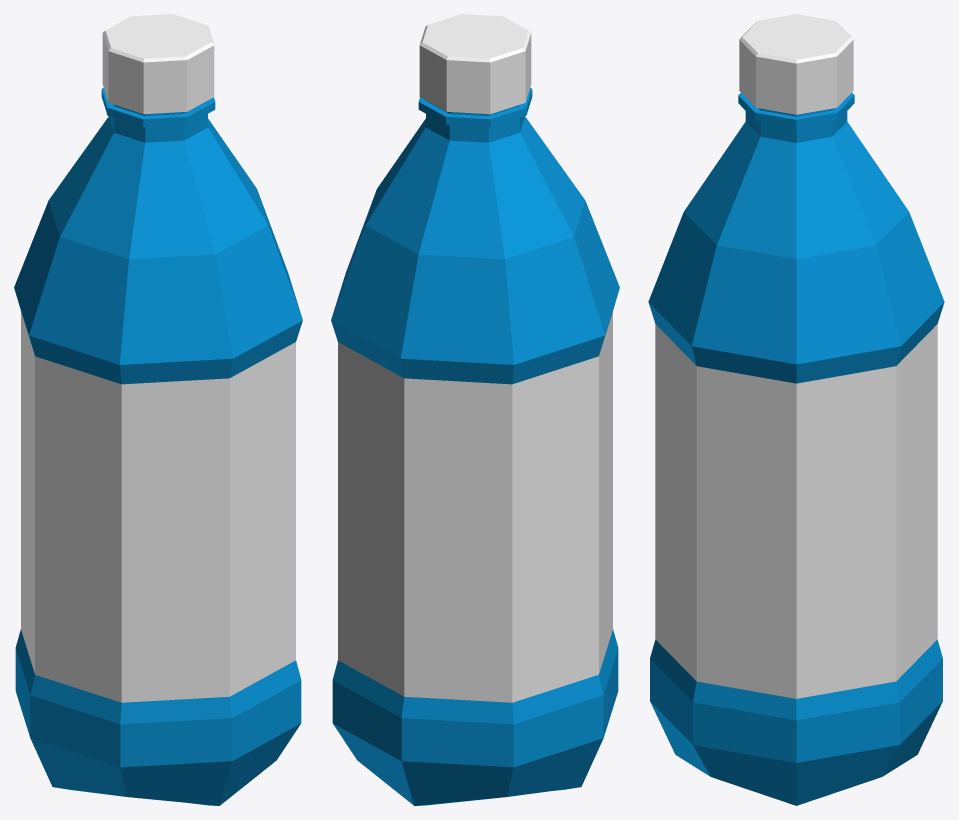
The model's file is Water_Bottle_01.fbx.
3 renders of one model, left to right at view 1: azimuth 30°, elevation 25°; view 2: azimuth 150°, elevation 25°; view 3: azimuth 270°, elevation 25°, orthographic.
Parts seen in each view (by area): view 1: Circle.002; view 2: Circle.002; view 3: Circle.002.
Part boxes in pixels (x1,y1,x2,y2): Circle.002: (14, 14, 302, 805); Circle.002: (331, 14, 619, 805); Circle.002: (648, 14, 944, 805).
Size of the model in its own units: 3.69 by 9.95 by 3.69.
